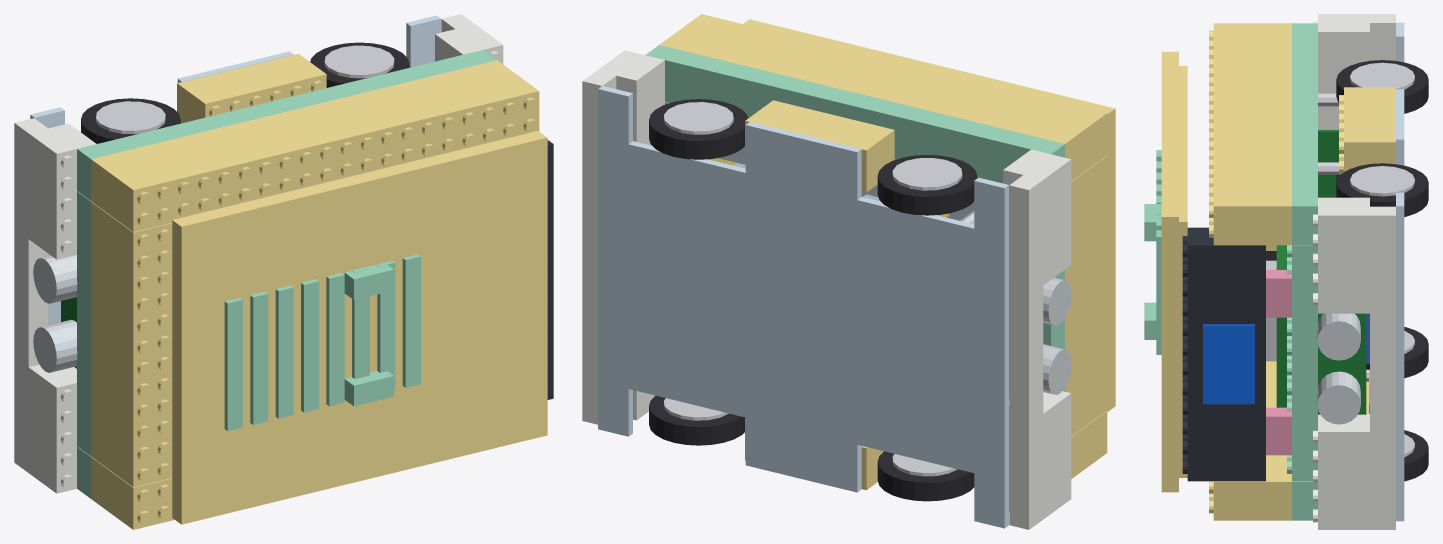
The model's file is cute-car-model.obj.
The picture shows the model from 3 angles, left to right: view 1: azimuth 30°, elevation 25°; view 2: azimuth 150°, elevation 25°; view 3: azimuth 270°, elevation 25°; orthographic projection. The views are drawn at different scales.
Bounding box in the file's own units: 176 × 128 × 105.
